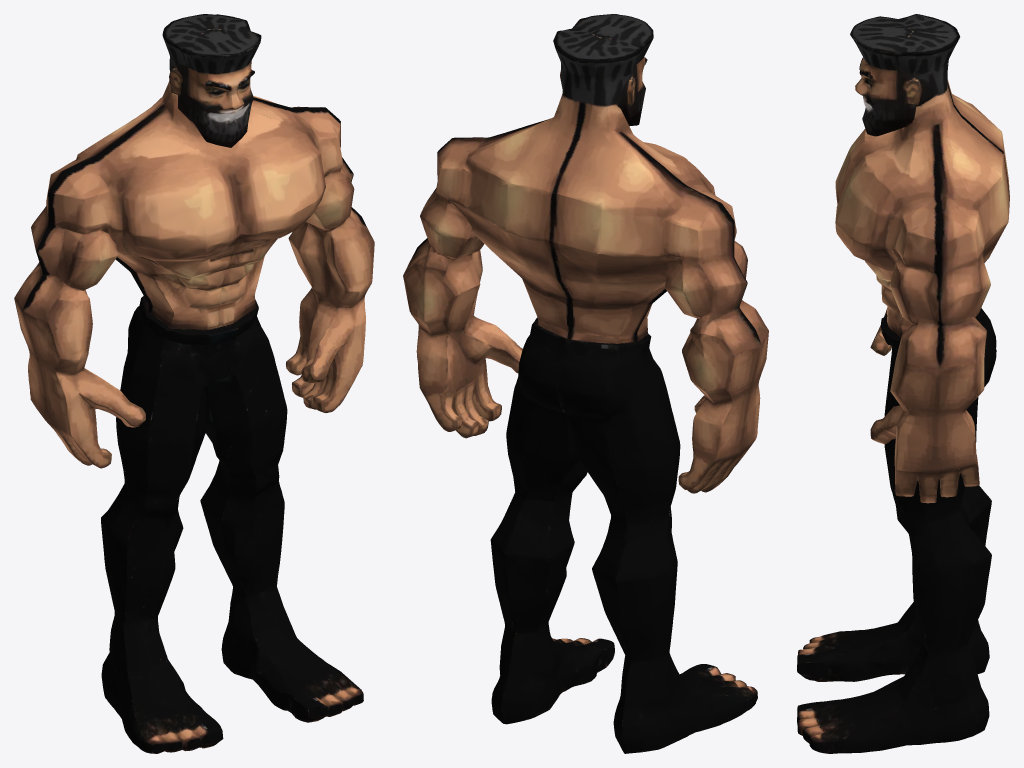
The model's file is Arthur_HeroReference_Full_White_S1337_D80000_Decimate40k.glb.
3 views of the same model, side by side, from view 1: azimuth 30°, elevation 25°; view 2: azimuth 150°, elevation 25°; view 3: azimuth 270°, elevation 25° (orthographic).
Visible parts, largest first — view 1: geometry_0; view 2: geometry_0; view 3: geometry_0.
Part boxes in pixels (<box>): geometry_0: <box>14,14,374,753</box>; geometry_0: <box>403,14,768,753</box>; geometry_0: <box>797,14,1009,753</box>.
Size of the model in its own units: 0.54 by 1 by 0.2867.
Materials: 1 (1 with a texture image).
